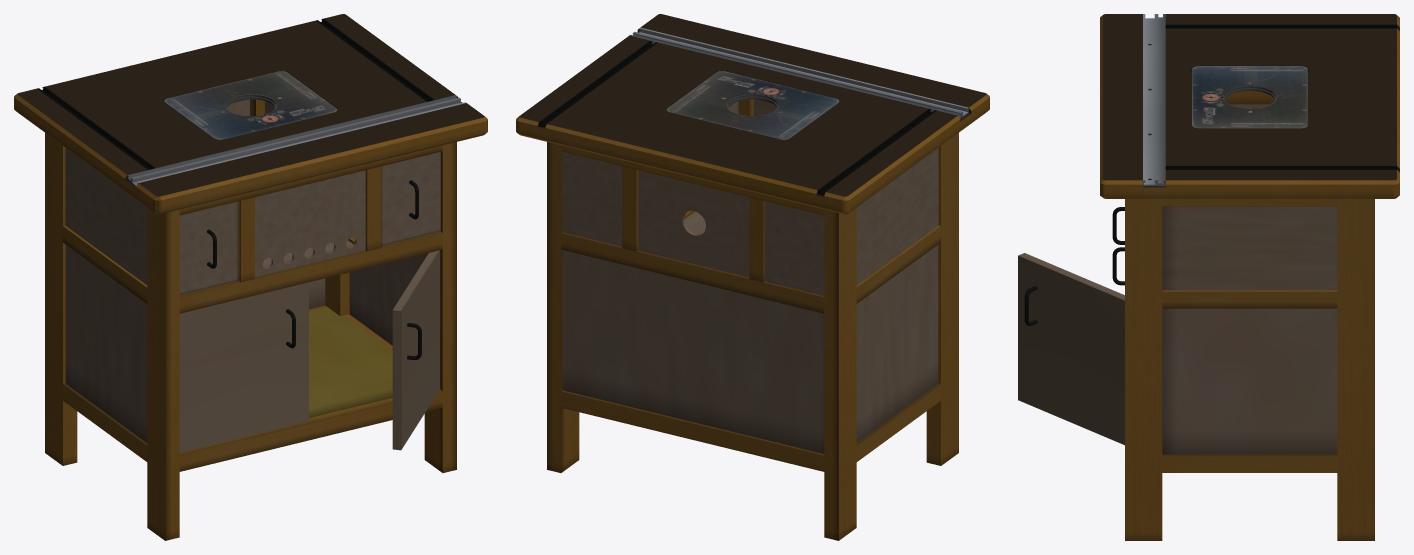
3 renders of one model, left to right at view 1: azimuth 30°, elevation 25°; view 2: azimuth 150°, elevation 25°; view 3: azimuth 270°, elevation 25°, orthographic. The views are drawn at different scales.
Visible parts, largest first — view 1: static_node, moving_node; view 2: static_node; view 3: static_node.
Part boxes in pixels (x1=…): static_node: x1=14, y1=14, x2=487, y2=540; moving_node: x1=381, y1=152, x2=440, y2=245; static_node: x1=516, y1=14, x2=989, y2=540; static_node: x1=1018, y1=14, x2=1399, y2=540.
Bounding box in the file's own units: 1.24 × 1.26 × 1.18.
Materials: 1 (1 with a texture image).
